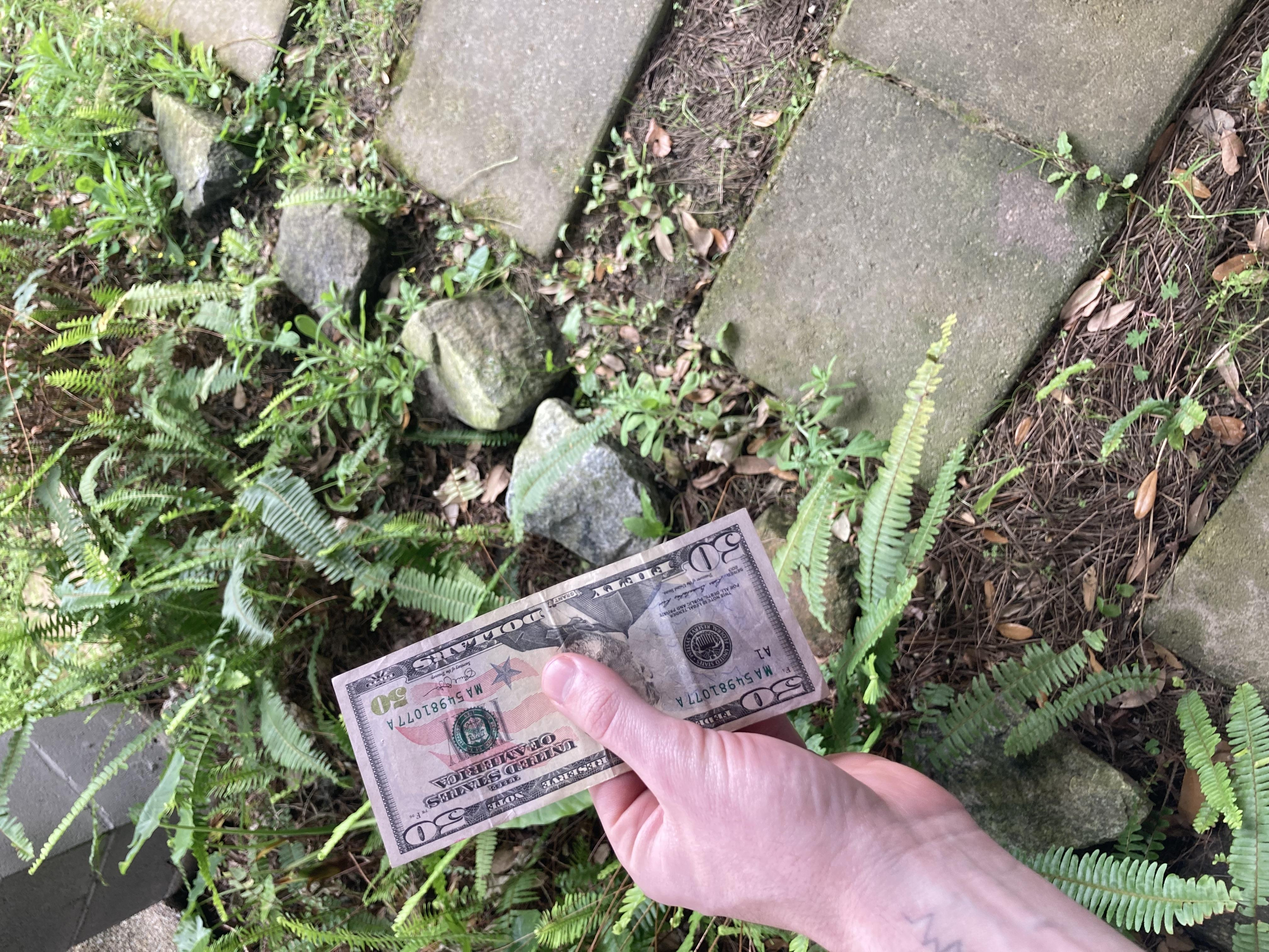fifty-front: (116, 248, 593, 624)
